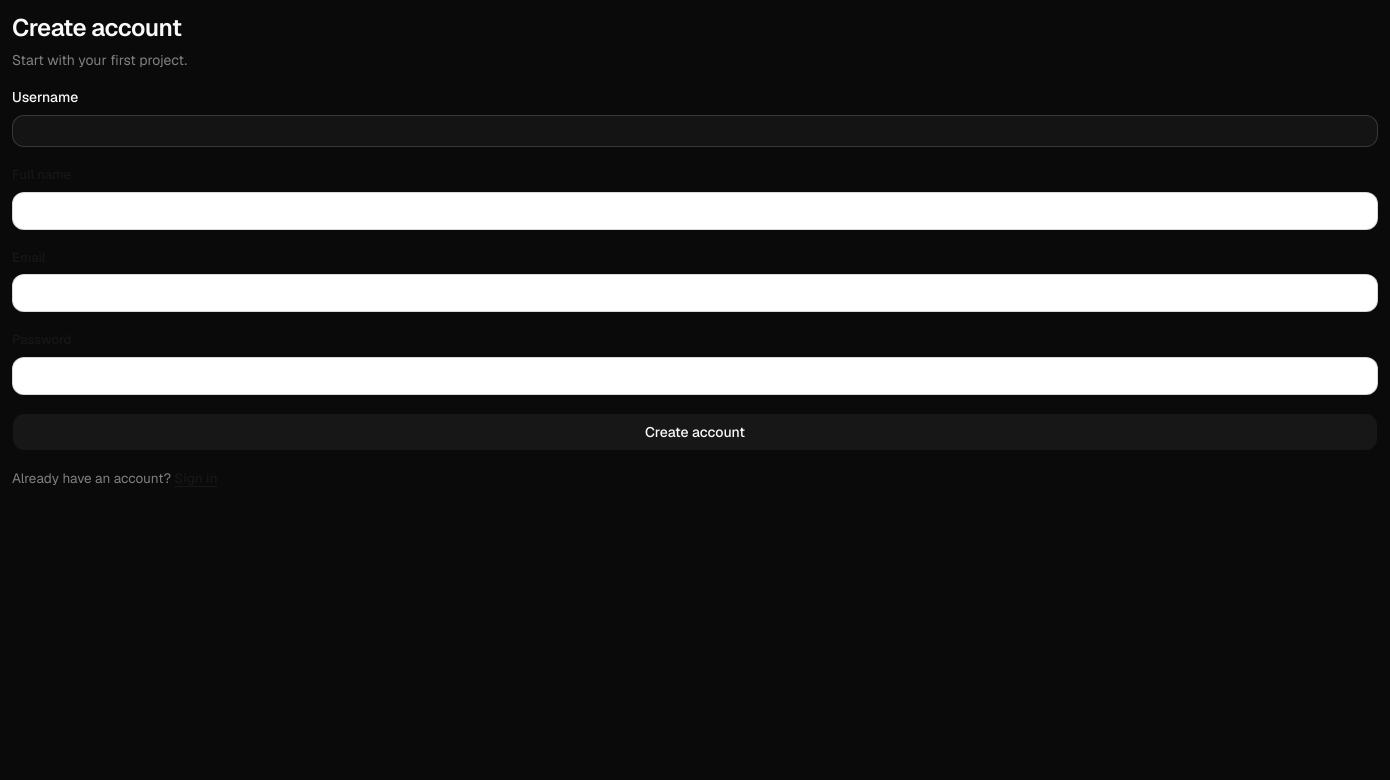
Test: SignUpForm › clears a stale form-level API error when resubmitting with invalid input
In the field labelled "Username": (695,131) [12,115,1378,147], type "ada"
In the field labelled "Full name": (695,211) [12,192,1378,230], type "Ada"
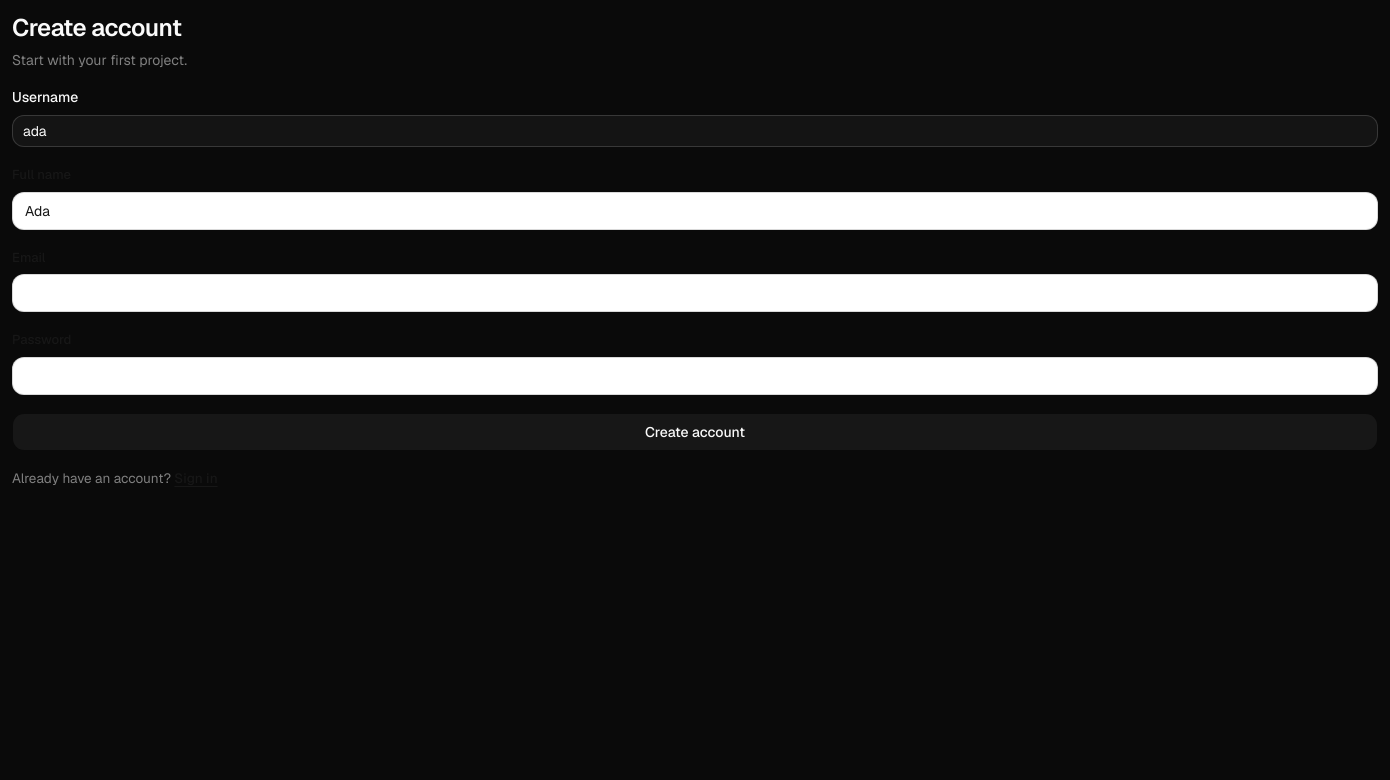
In the field labelled "Email": (695,293) [12,274,1378,312], type "ada@example.com"
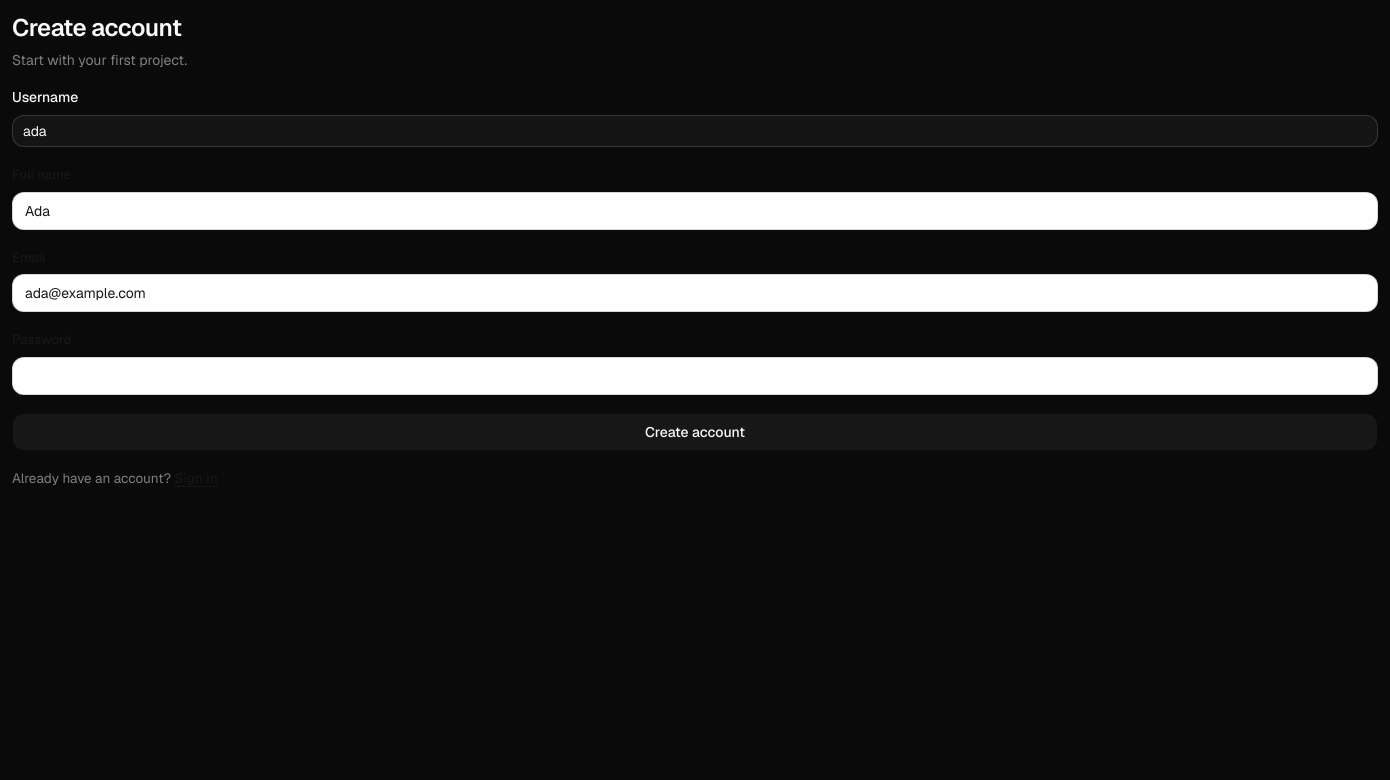
In the password field labelled "Password": (695,376) [12,357,1378,395], type "a-long-enough-password"
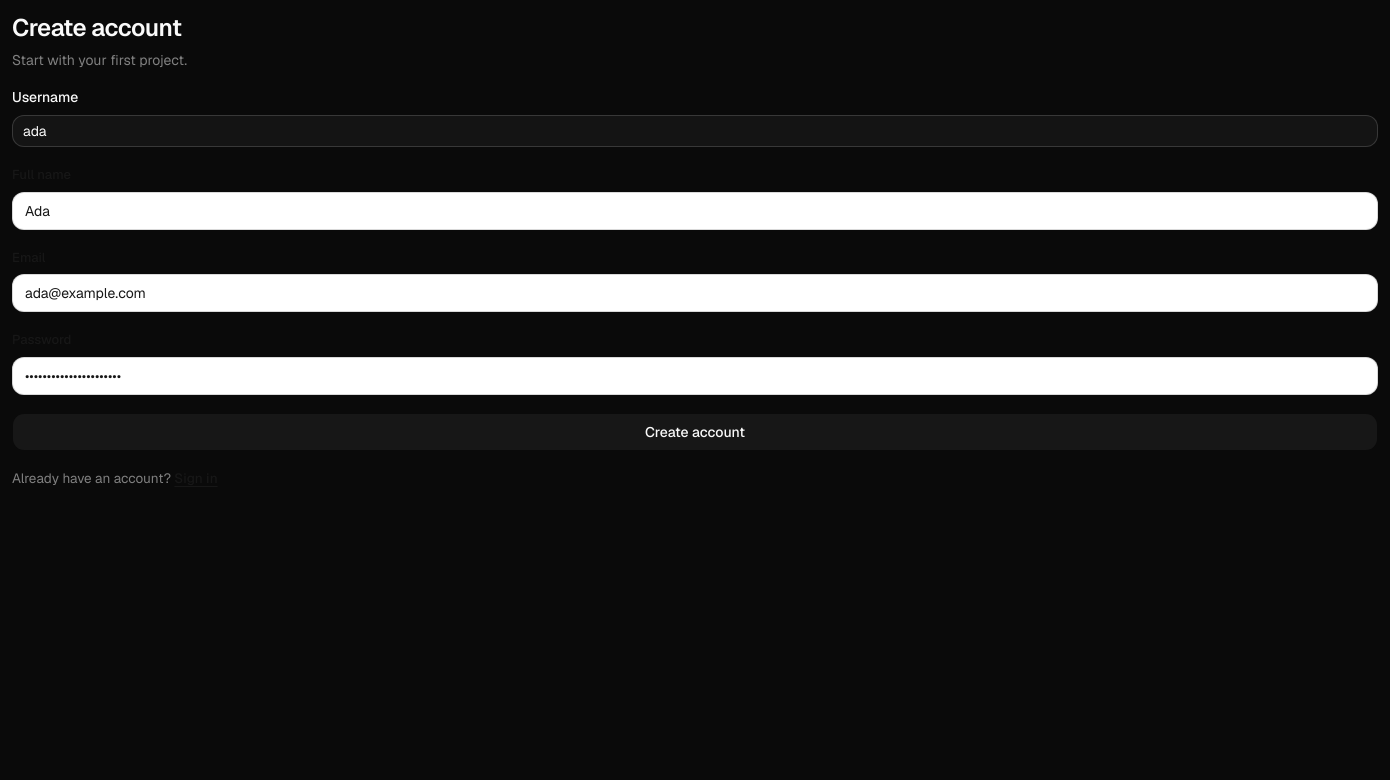
Click the button "Create account": (695,432) [12,413,1378,451]
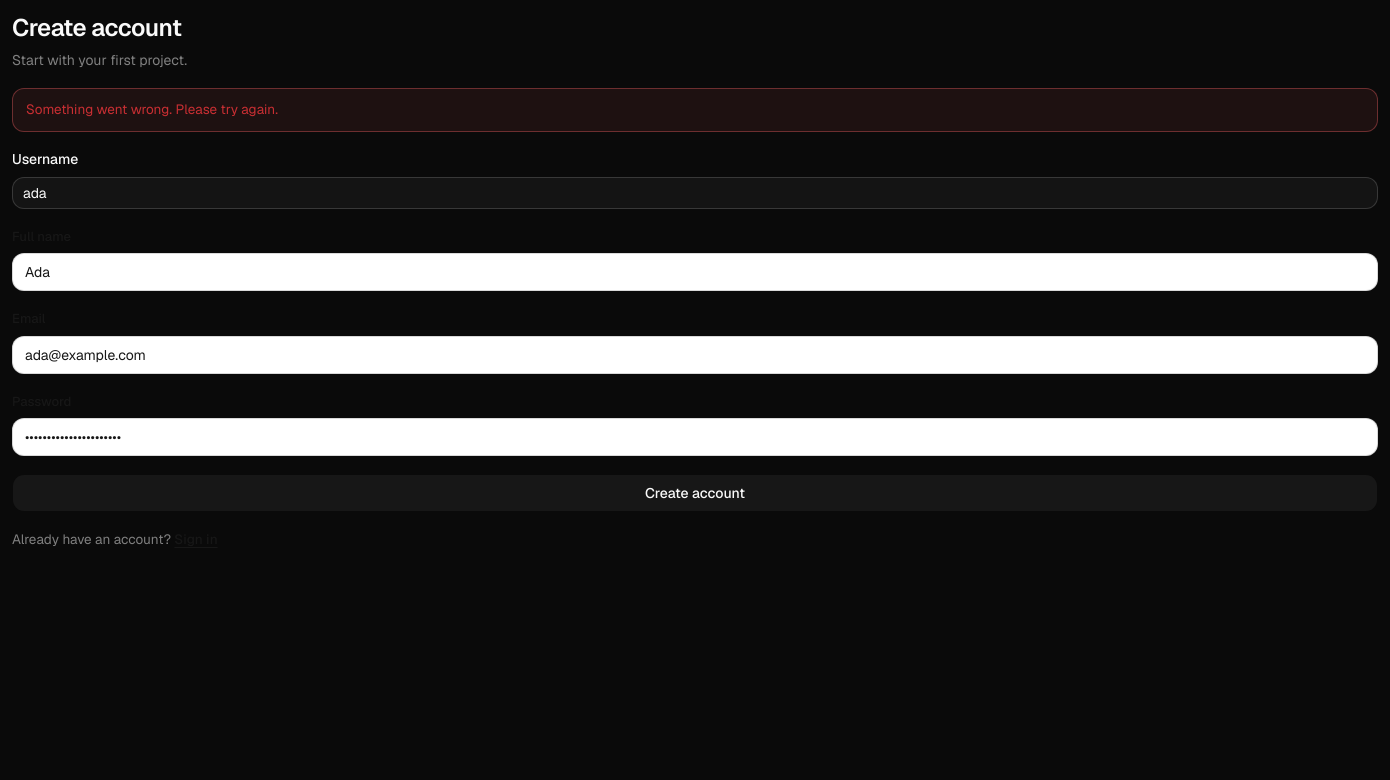
Result: the message reads "Something went wrong. Please try again." at [26,100,278,118]
Clear the password field labelled "Password": (695,437) [12,418,1378,456]
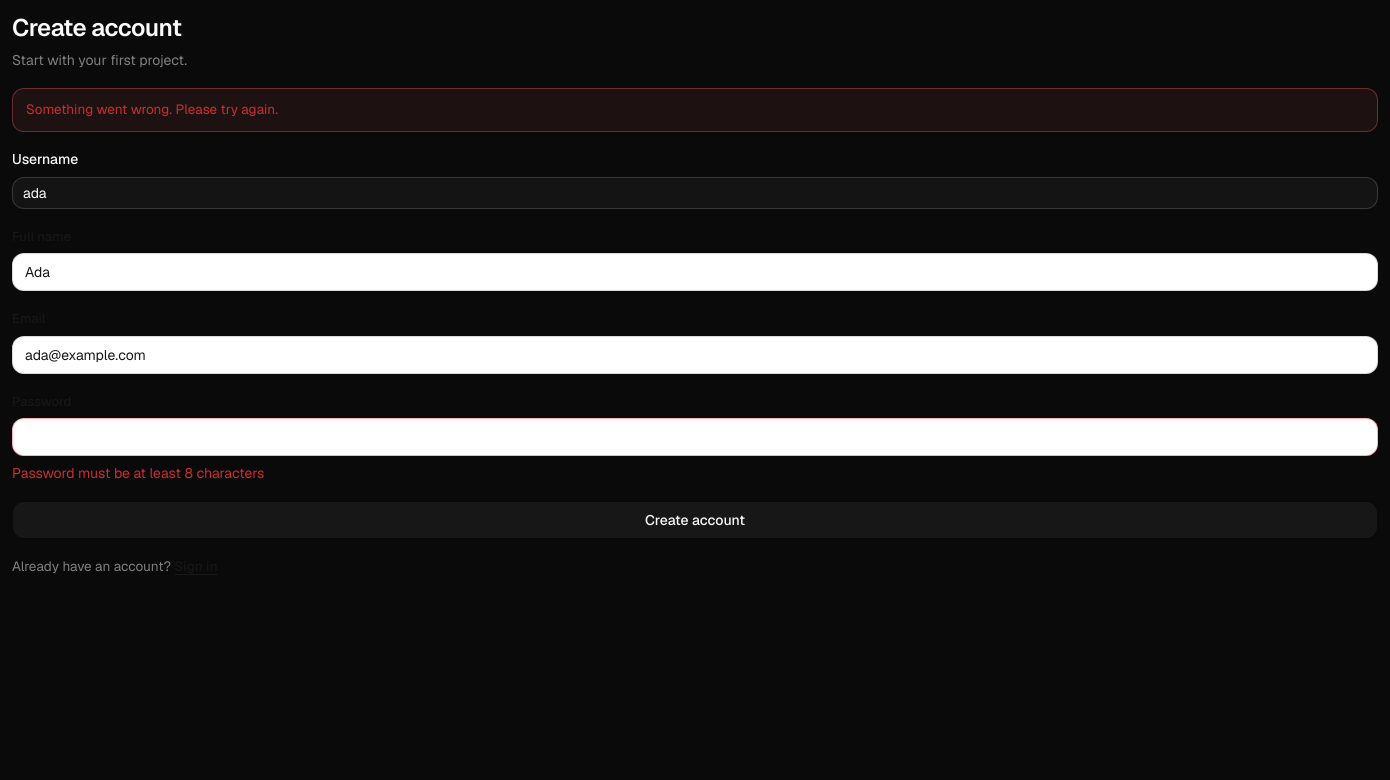
Click the button "Create account": (695,520) [12,501,1378,539]
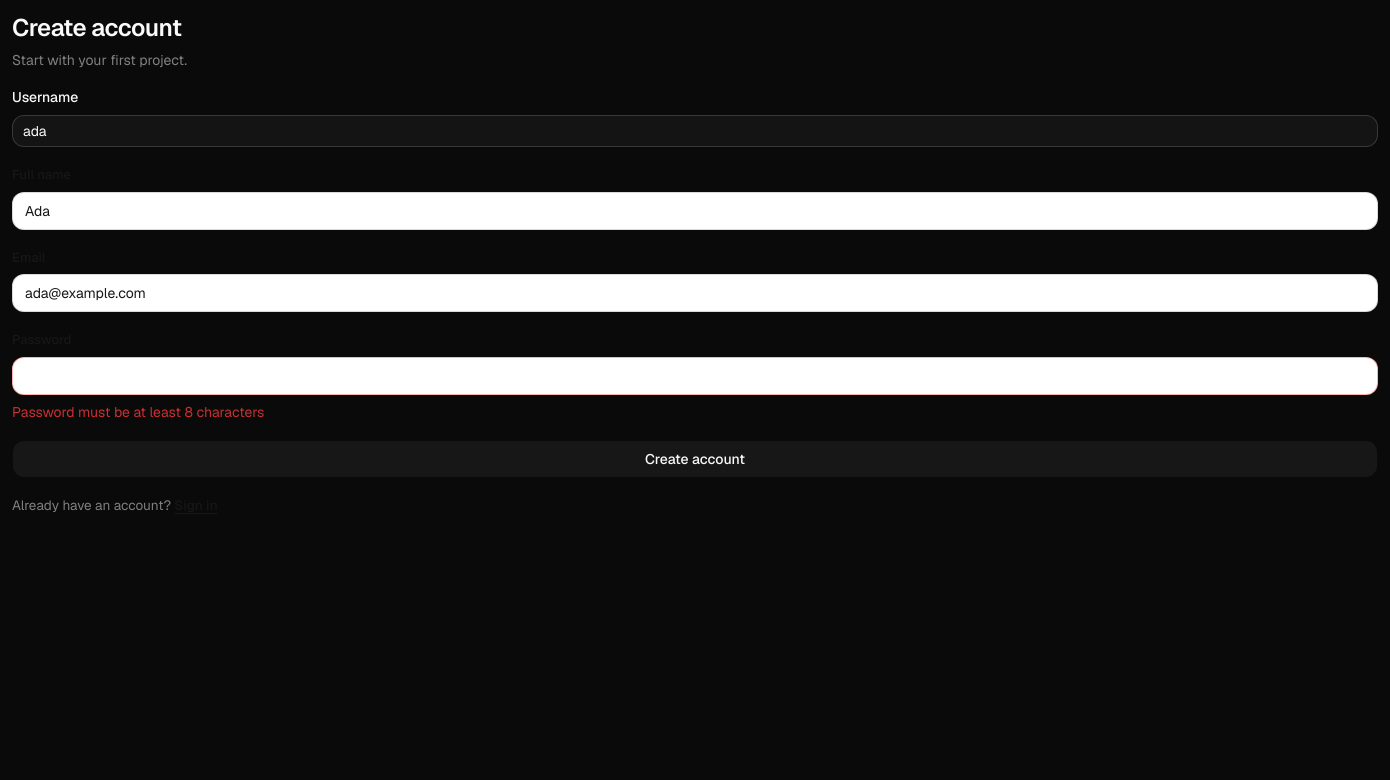
Result: the text "Something went wrong. Please try again." is gone
